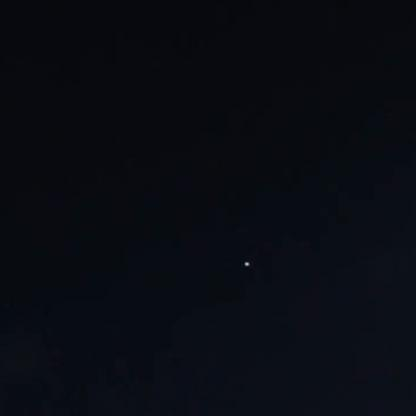ball: (242, 257, 252, 268)
